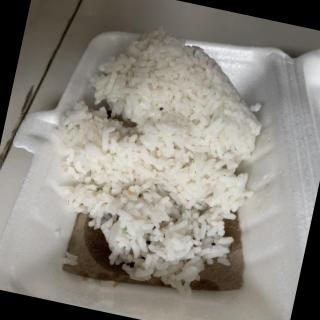Nasi: (37, 15, 276, 302)
